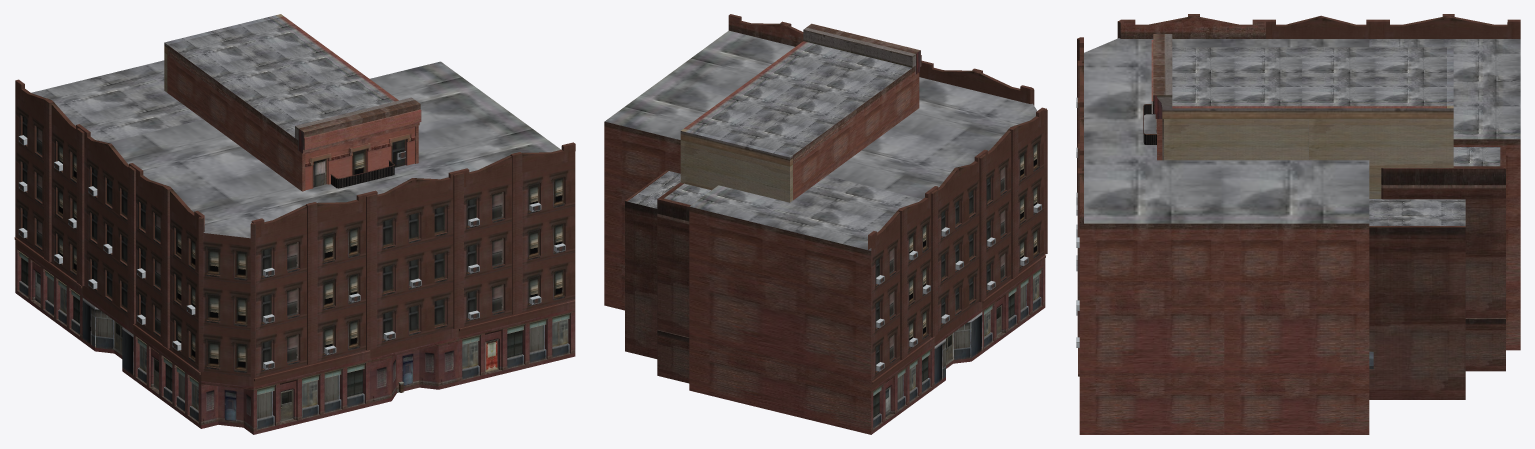
The model's file is realistic-nyc-buildings.glb.
3 views of the same model, side by side, from view 1: azimuth 30°, elevation 25°; view 2: azimuth 150°, elevation 25°; view 3: azimuth 270°, elevation 25° (orthographic). The views are drawn at different scales.
Parts seen in each view (by area): view 1: NYCBuildingF, NYCBuildingB, NYCBuildingC; view 2: NYCBuildingF, NYCBuildingB, NYCBuildingC, NYCBuildingA, NYCBuildingE; view 3: NYCBuildingF, NYCBuildingE, NYCBuildingB, NYCBuildingC, NYCBuildingA.
Part boxes in pixels (x1=…): NYCBuildingF: x1=14, y1=60, x2=575, y2=434; NYCBuildingB: x1=167, y1=16, x2=421, y2=191; NYCBuildingC: x1=164, y1=14, x2=414, y2=188; NYCBuildingF: x1=604, y1=14, x2=1047, y2=434; NYCBuildingB: x1=684, y1=23, x2=921, y2=200; NYCBuildingC: x1=680, y1=27, x2=915, y2=202; NYCBuildingA: x1=657, y1=182, x2=710, y2=383; NYCBuildingE: x1=625, y1=170, x2=680, y2=358; NYCBuildingF: x1=1076, y1=14, x2=1520, y2=434; NYCBuildingE: x1=1369, y1=199, x2=1465, y2=399; NYCBuildingB: x1=1151, y1=34, x2=1446, y2=160; NYCBuildingC: x1=1143, y1=34, x2=1453, y2=198; NYCBuildingA: x1=1381, y1=147, x2=1505, y2=371.
Size of the model in its own units: 30.69 by 21.04 by 30.68.
9 materials, 9 textured.
